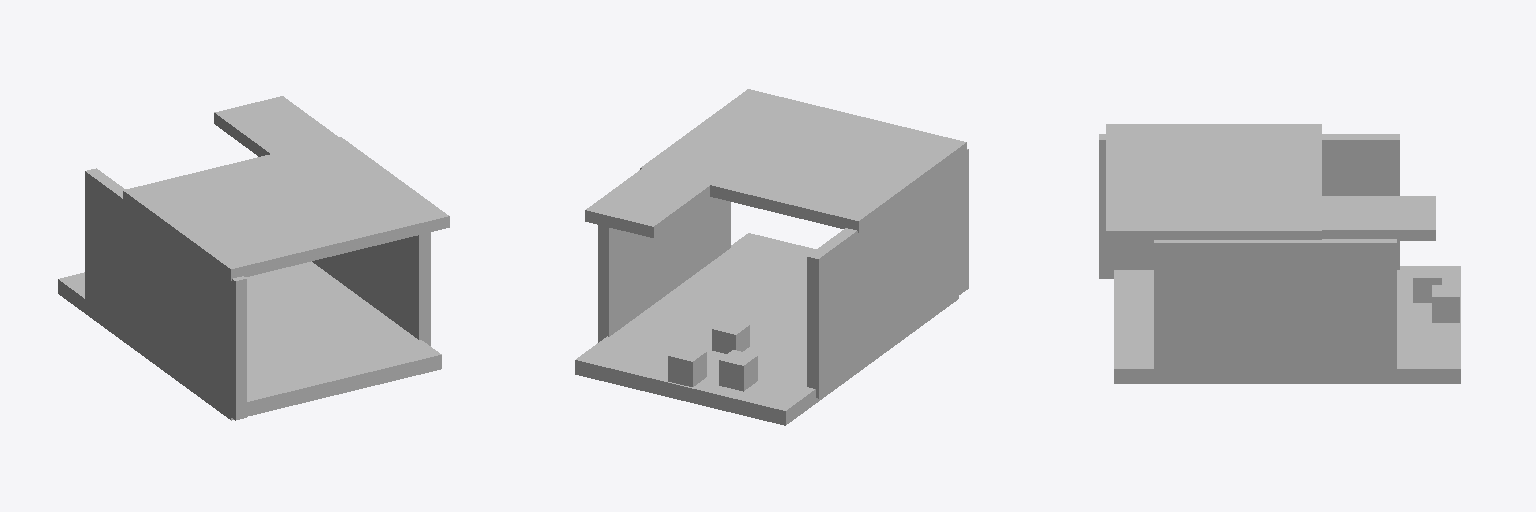
File: cell1.2.hb.obj
3 renders of one model, left to right at view 1: azimuth 30°, elevation 25°; view 2: azimuth 150°, elevation 25°; view 3: azimuth 270°, elevation 25°, orthographic.
Visible parts, largest first — view 1: Cube.013, Cube.011, Cube.001, Cube.010_Cube, Cube.014; view 2: Cube.013, Cube.001, Cube.011, Cube.010_Cube, Cube.014, Cube.006_Cube.007, Cube.007_Cube.008, Cube.008_Cube.009; view 3: Cube.010_Cube, Cube.013, Cube.001, Cube.011, Cube.014, Cube.006_Cube.007, Cube.007_Cube.008.
Part boxes in pixels (x1,y1,x2,y2): Cube.013: (123,137,449,280); Cube.011: (85,168,246,420); Cube.001: (58,261,441,420); Cube.010_Cube: (312,232,430,345); Cube.014: (214,96,339,156); Cube.013: (640,89,966,232); Cube.001: (575,233,958,425); Cube.011: (807,149,968,398); Cube.010_Cube: (598,197,730,342); Cube.014: (585,169,709,237); Cube.006_Cube.007: (668,346,706,386); Cube.007_Cube.008: (719,350,757,391); Cube.008_Cube.009: (712,319,749,353); Cube.010_Cube: (1154,239,1396,381); Cube.013: (1106,124,1321,241); Cube.001: (1114,266,1460,383); Cube.011: (1099,134,1399,278); Cube.014: (1322,196,1435,240); Cube.006_Cube.007: (1432,285,1459,322); Cube.007_Cube.008: (1413,266,1441,302).
Bounding box in the file's own units: 18.25 × 12.07 × 25.52.